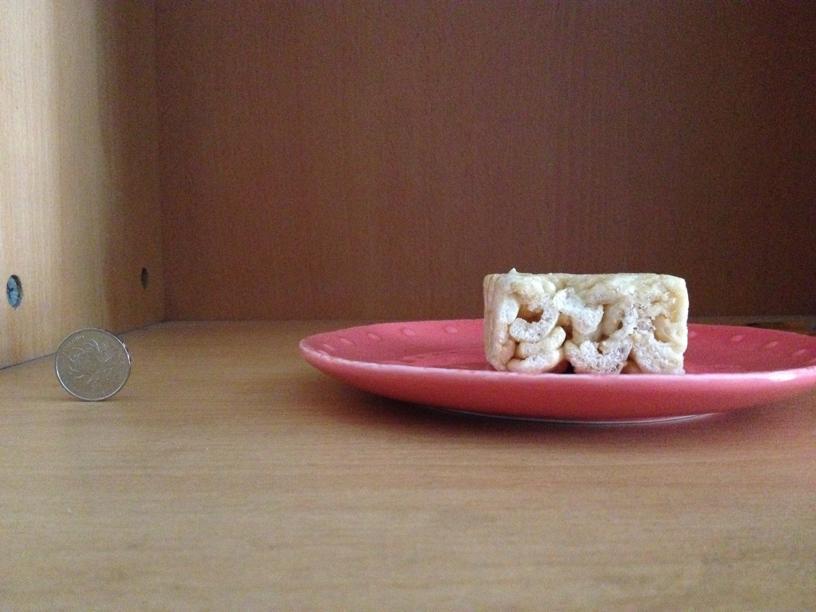coin: (49, 323, 134, 402)
sachima: (482, 269, 689, 378)
